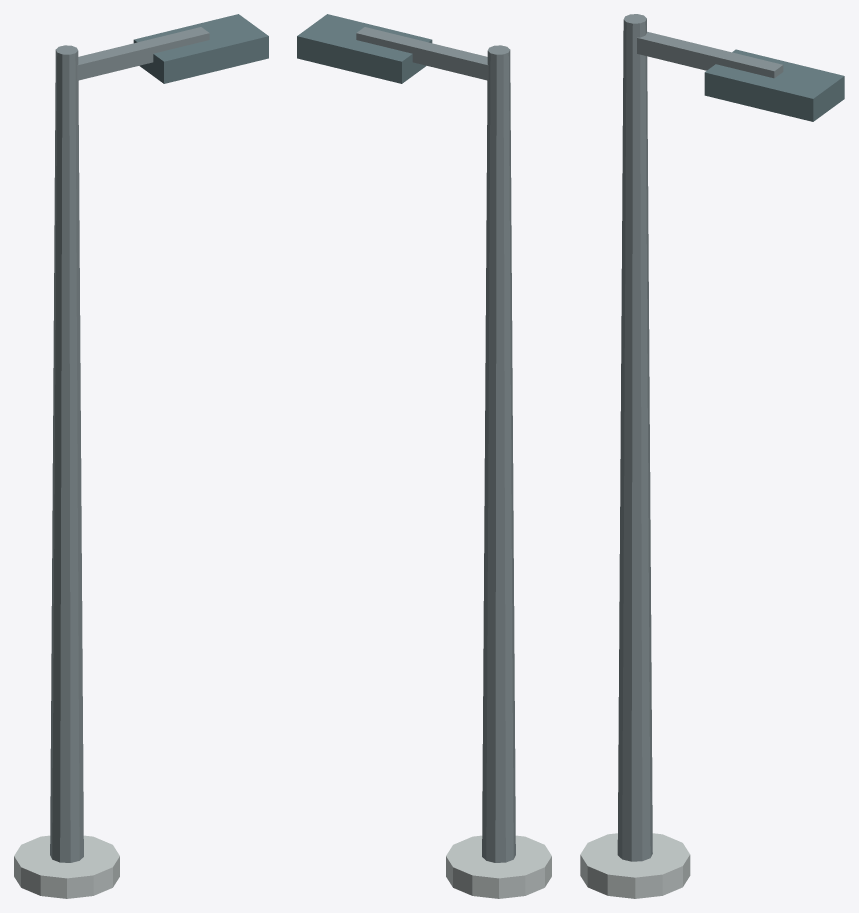
The model's file is lamp.glb.
The picture shows the model from 3 angles, left to right: view 1: azimuth 30°, elevation 25°; view 2: azimuth 150°, elevation 25°; view 3: azimuth 330°, elevation 25°; orthographic projection. The views are drawn at different scales.
Bounding box in the file's own units: 1.42 × 4.82 × 0.56.
